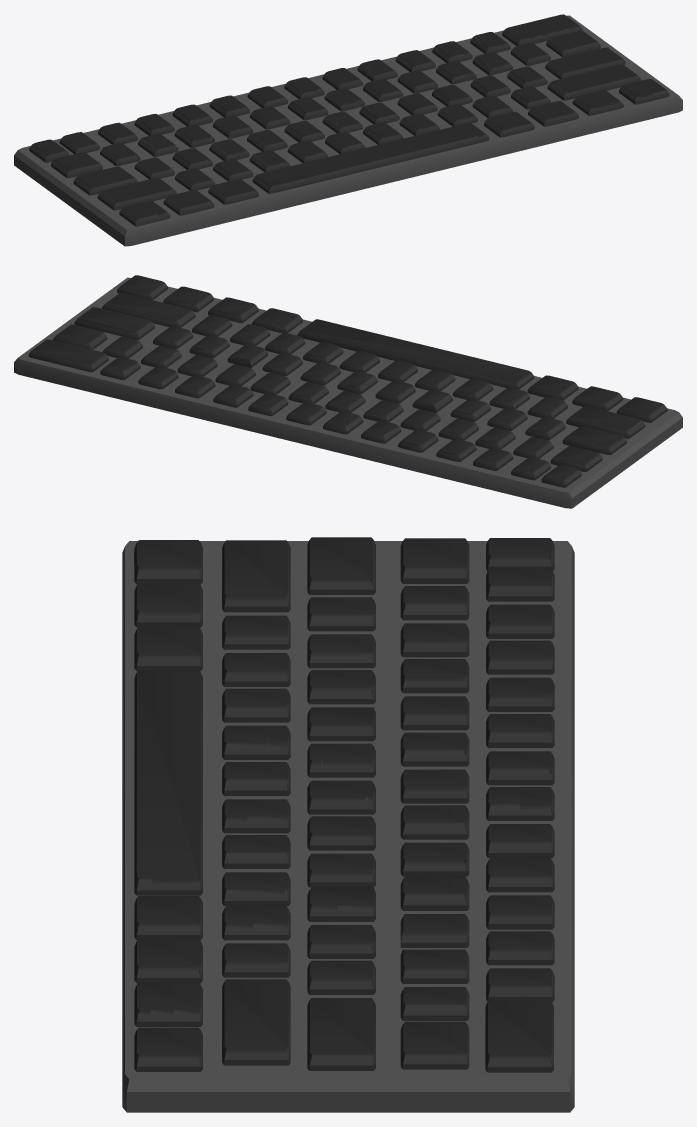
The model's file is teclado.fbx.
3 renders of one model, top to bottom at view 1: azimuth 30°, elevation 25°; view 2: azimuth 150°, elevation 25°; view 3: azimuth 270°, elevation 25°, orthographic. The views are drawn at different scales.
Visible parts, largest first — view 1: Teclado; view 2: Teclado; view 3: Teclado.
Part boxes in pixels (bbox=[...]): Teclado: bbox=[14, 14, 682, 246]; Teclado: bbox=[14, 275, 682, 508]; Teclado: bbox=[122, 537, 574, 1112].
Bounding box in the file's own units: 1.94 × 52.04 × 18.26.
